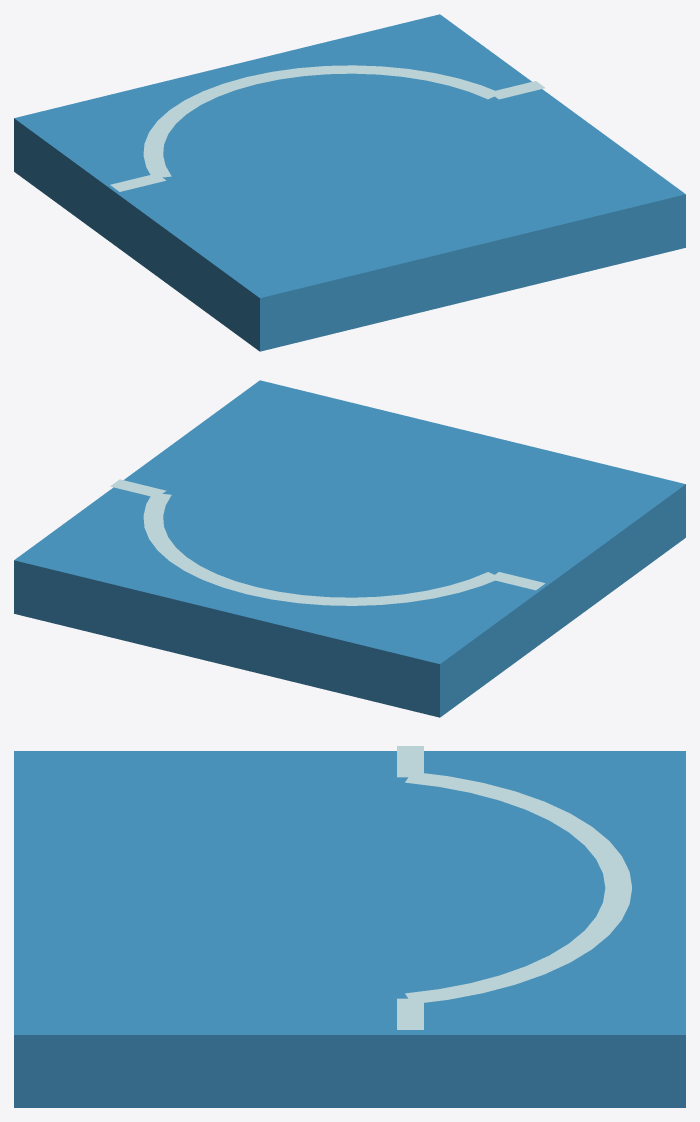
File: water_pool_edge_01.glb
The picture shows the model from 3 angles, top to bottom: view 1: azimuth 30°, elevation 25°; view 2: azimuth 150°, elevation 25°; view 3: azimuth 270°, elevation 25°; orthographic projection. The views are drawn at different scales.
Visible parts, largest first — view 1: water_pool_edge_01; view 2: water_pool_edge_01; view 3: water_pool_edge_01.
Boxes of the visible parts, box(x1,y1,x2,y2) form: water_pool_edge_01: box(14, 14, 685, 351); water_pool_edge_01: box(14, 380, 685, 717); water_pool_edge_01: box(14, 746, 685, 1107).
Bounding box in the file's own units: 1 × 0.128 × 1.
